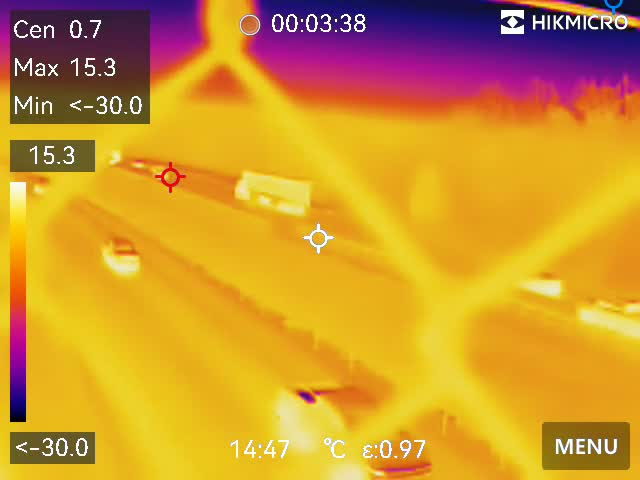heavyTruck: (231, 163, 325, 213)
